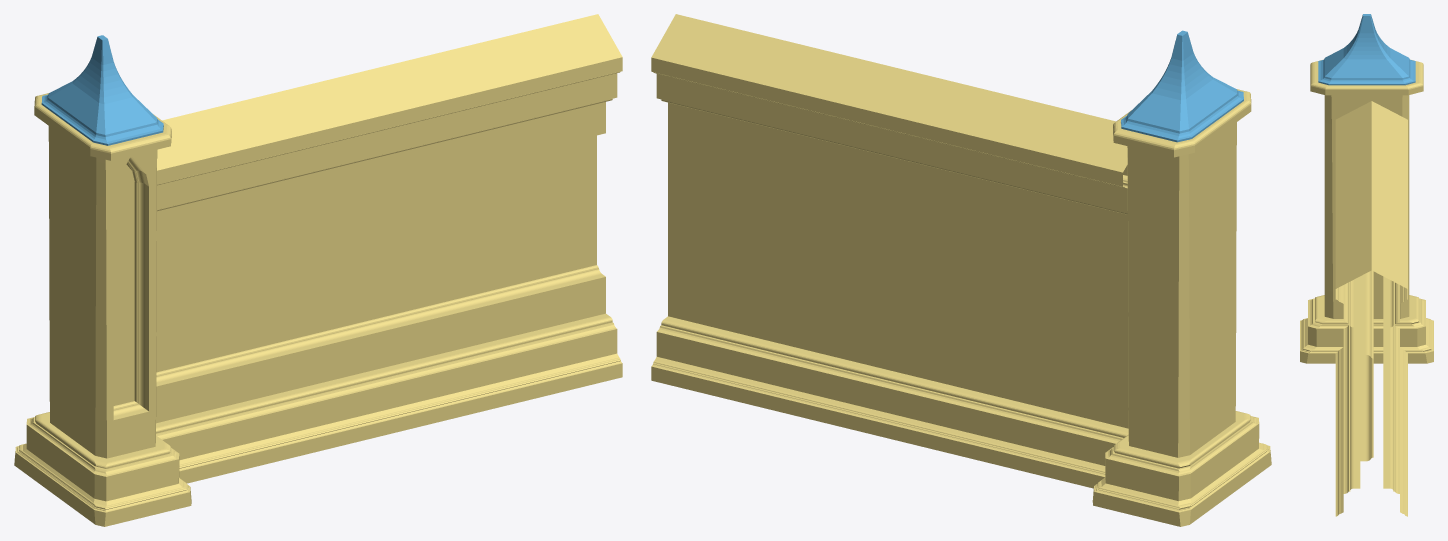
File: weiqiang2.FBX
3 renders of one model, left to right at view 1: azimuth 30°, elevation 25°; view 2: azimuth 150°, elevation 25°; view 3: azimuth 270°, elevation 25°, orthographic. The views are drawn at different scales.
Visible parts, largest first — view 1: 对象018, 对象021; view 2: 对象018, 对象021; view 3: 对象018, 对象021.
Boxes of the visible parts, x1,y1,x2,y2 form: 对象018: (14,14,622,526); 对象021: (41,35,163,145); 对象018: (651,14,1271,526); 对象021: (1121,30,1243,142); 对象018: (1300,60,1433,516); 对象021: (1318,14,1415,85).
Size of the model in its own units: 6.89 by 5.37 by 1.97.
